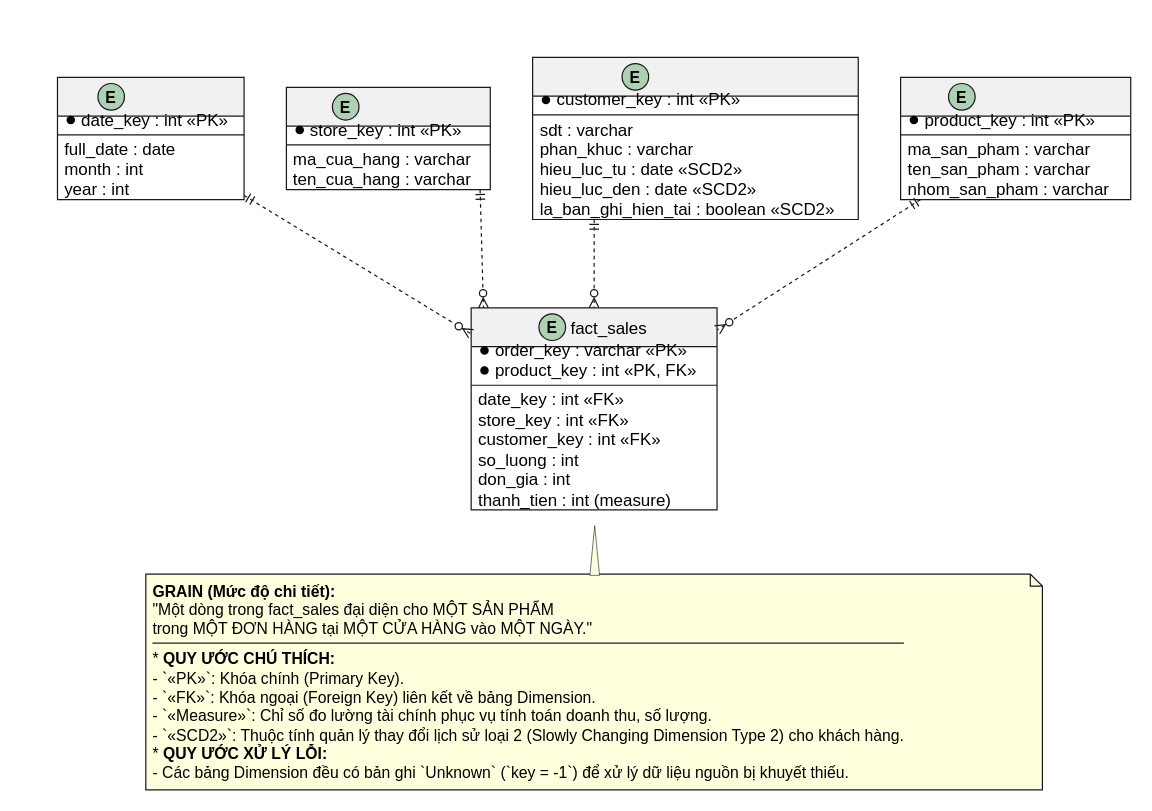
Some shapes in this 1152 by 811 pixel diagram are drawn without their labels. Each missing label, with the box of its shape:
dim_customer: (531, 56, 858, 219)
dim_date: (56, 76, 244, 200)
dim_product: (899, 76, 1131, 200)
dim_store: (285, 86, 490, 190)
